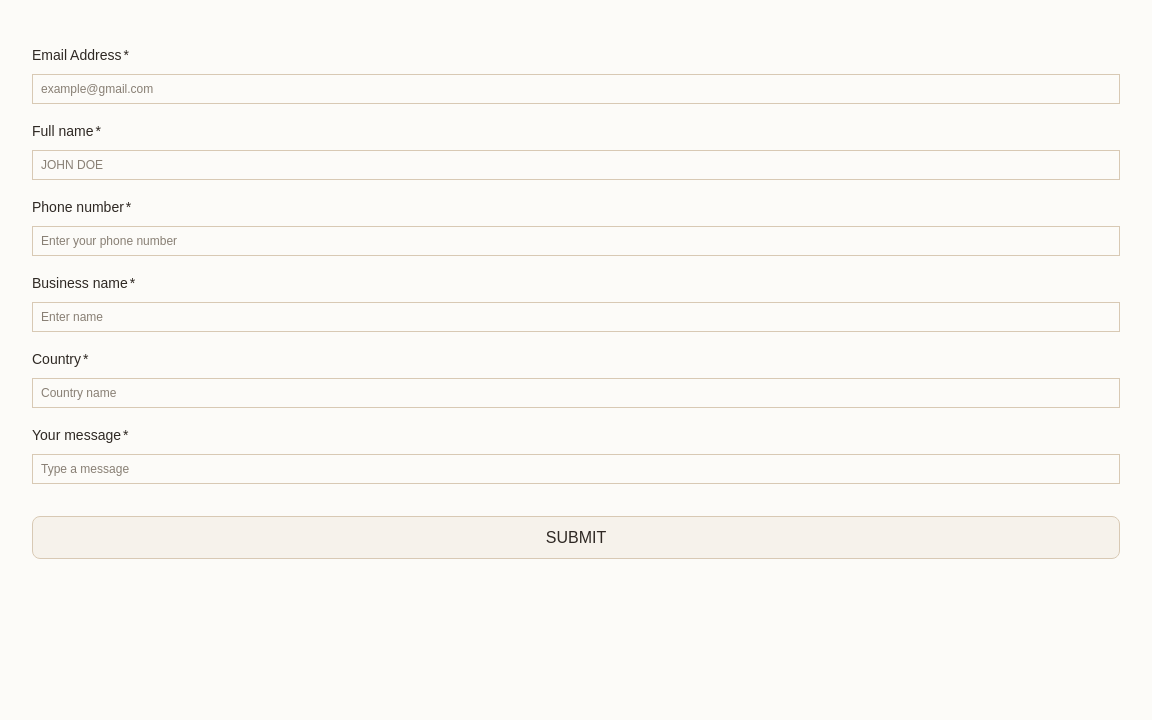
Scenario: PartnerForm › validates email format without submitting
Type "not-an-email" into the field labelled "Email Address" at (576, 89), box left=32, top=74, right=1120, bottom=104
Type "Avery Stone" into the field labelled "Full name" at (576, 165), box left=32, top=150, right=1120, bottom=180
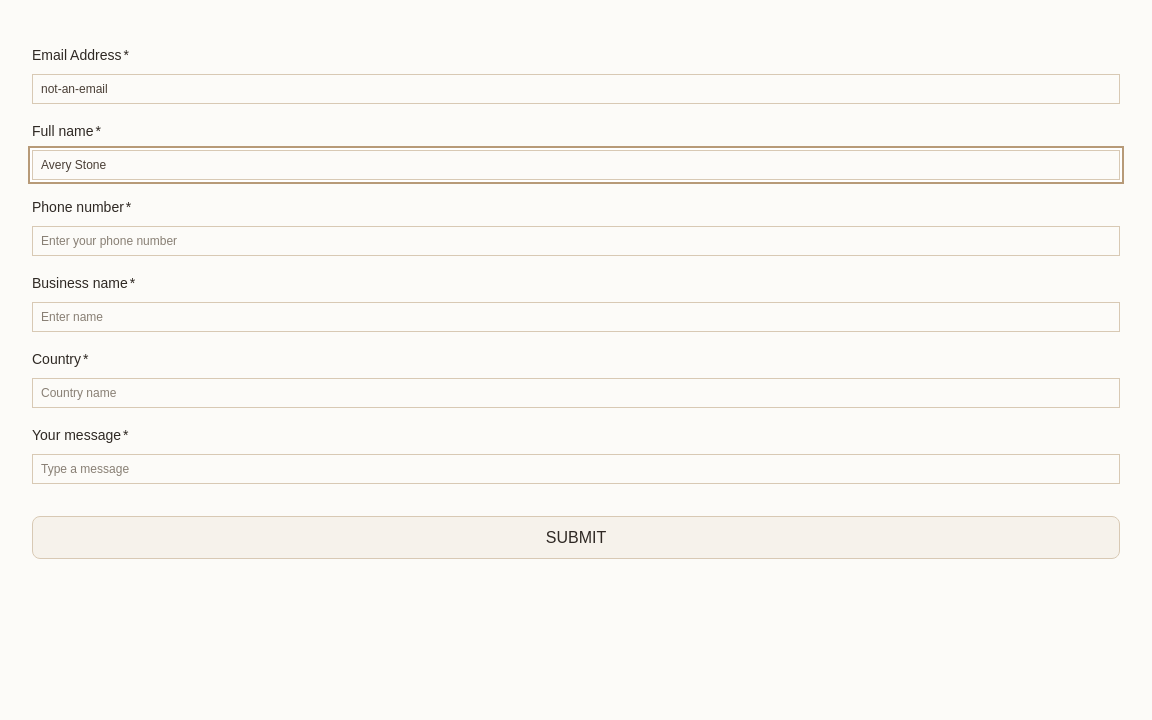
Type "+1 555 0100" into the field labelled "Phone number" at (576, 241), box left=32, top=226, right=1120, bottom=256
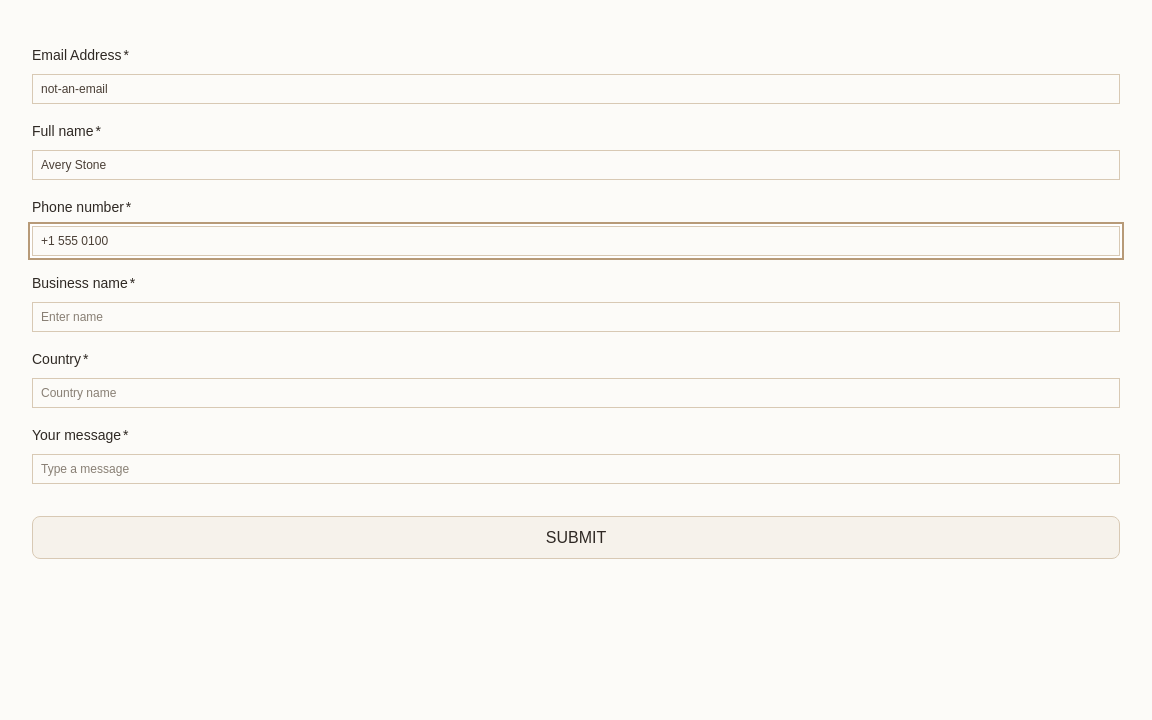
Type "Stone Retail" into the field labelled "Business name" at (576, 317), box left=32, top=302, right=1120, bottom=332
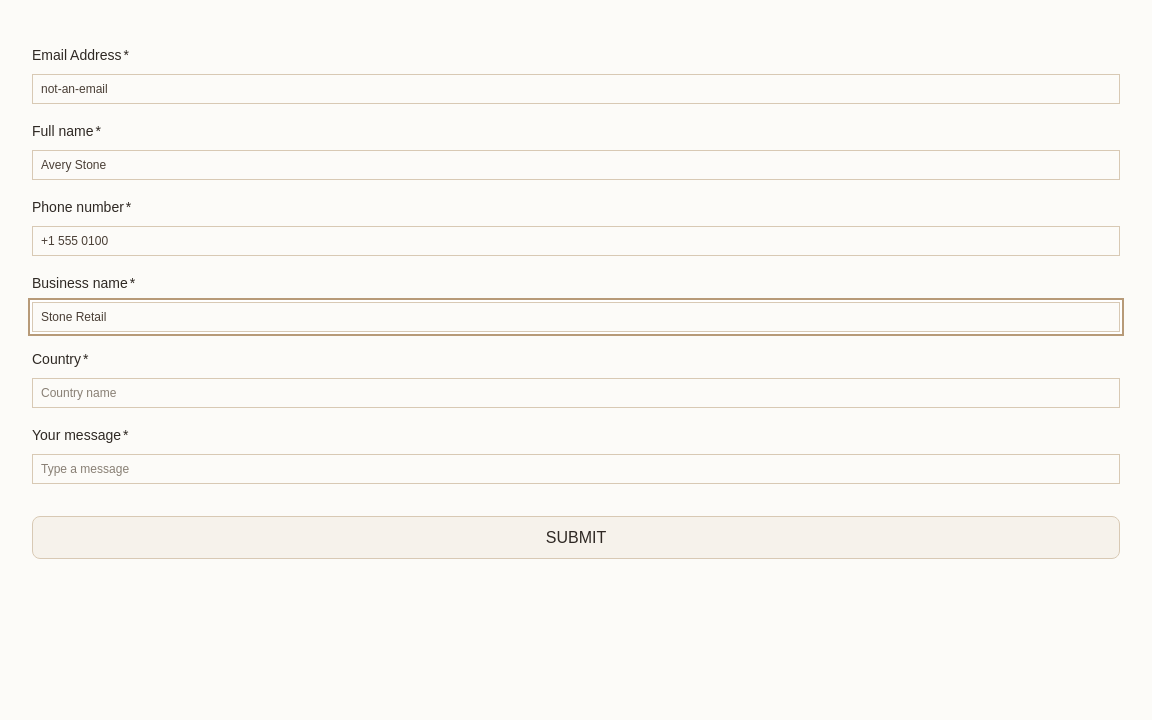
Type "United States" into the field labelled "Country" at (576, 393), box left=32, top=378, right=1120, bottom=408
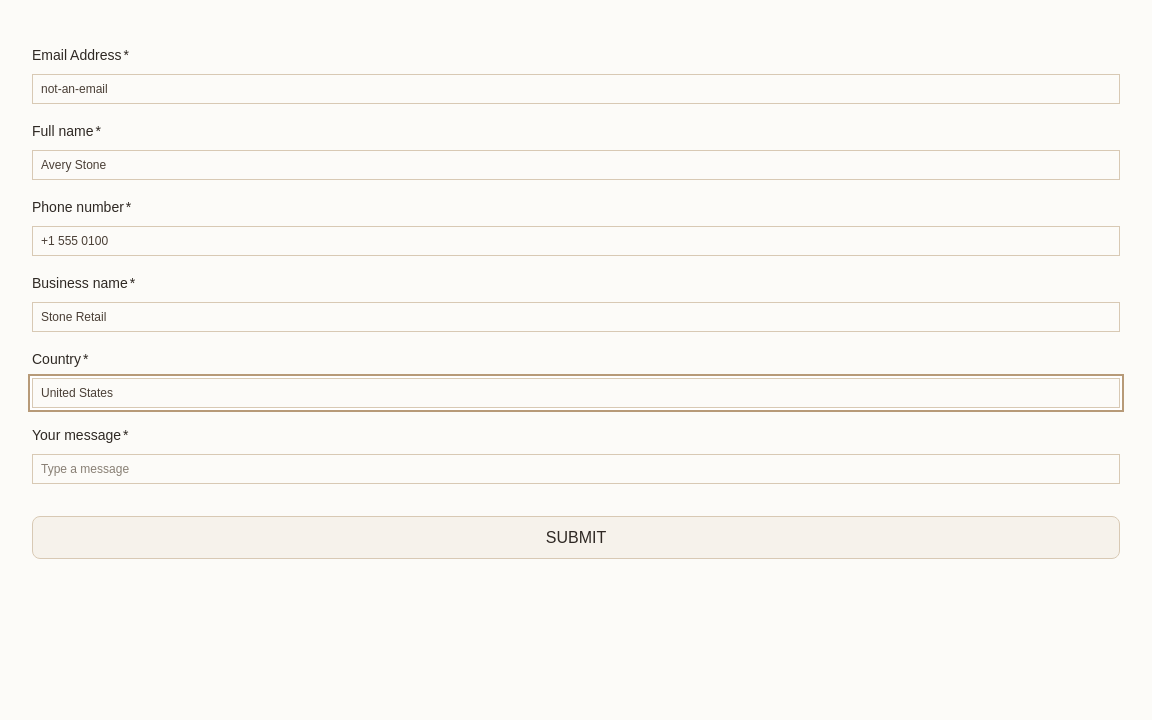
Type "Partnership message." into the text box labelled "Your message" at (576, 469), box left=32, top=454, right=1120, bottom=484
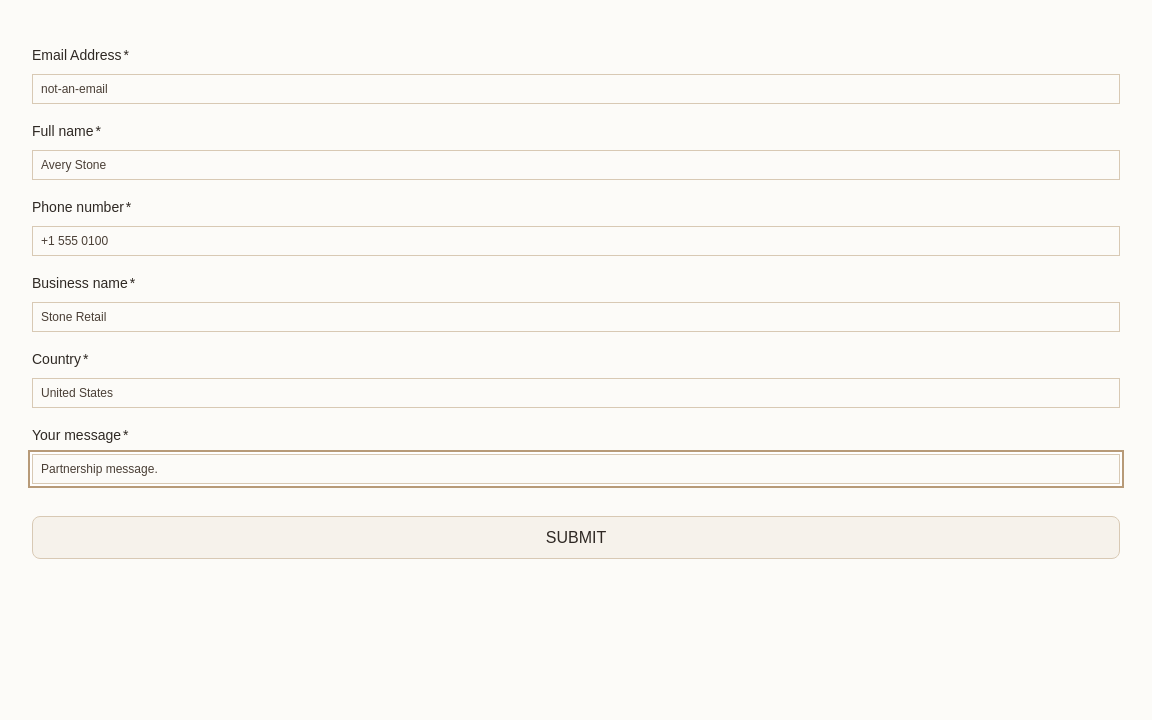
Click the button "SUBMIT" at (576, 538), box left=32, top=516, right=1120, bottom=559
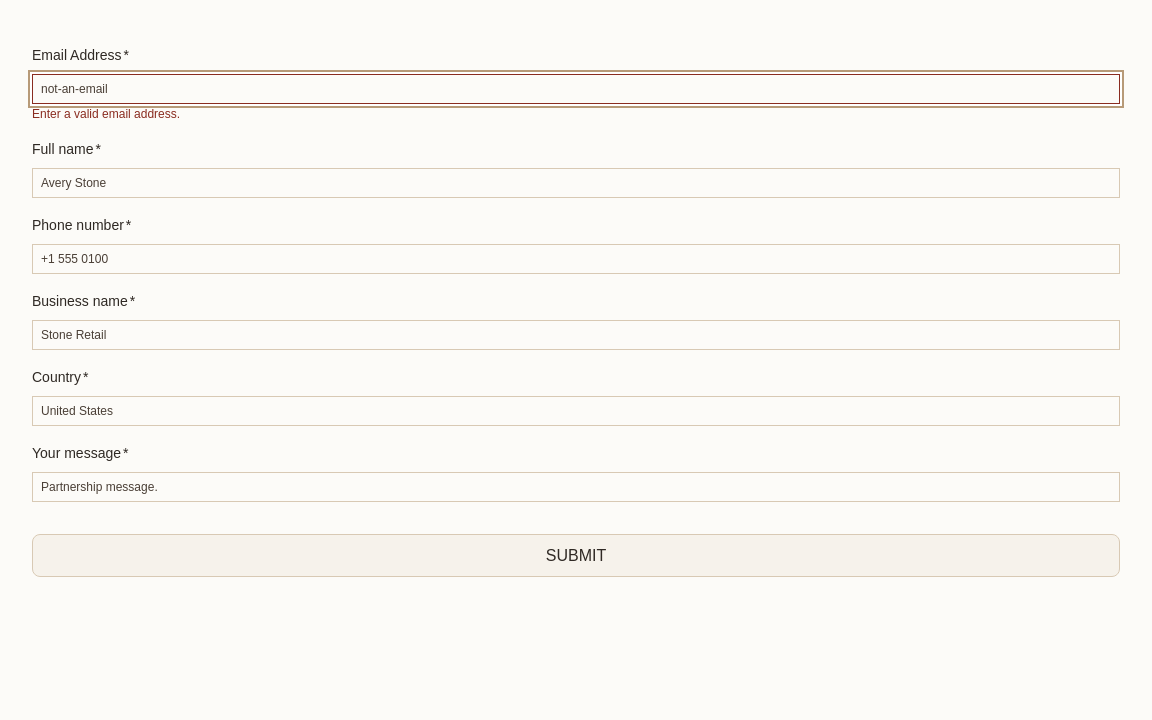
Now the text "Enter a valid email address." is shown, box left=32, top=107, right=180, bottom=121
